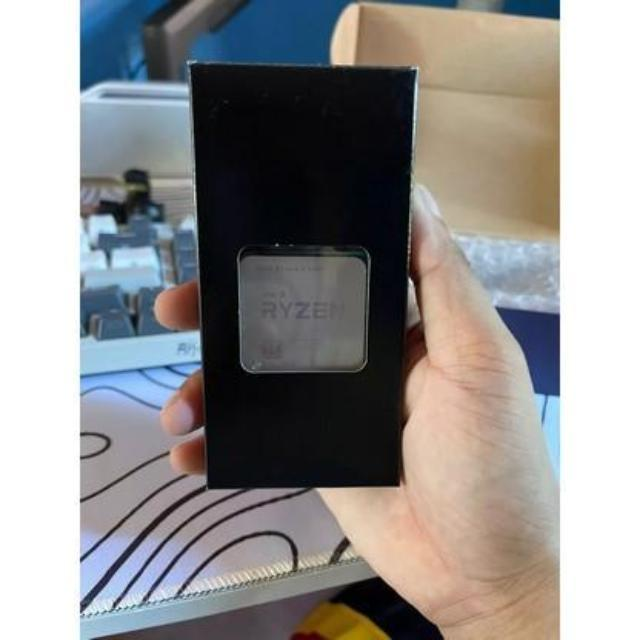CPU: (235, 245, 374, 384)
